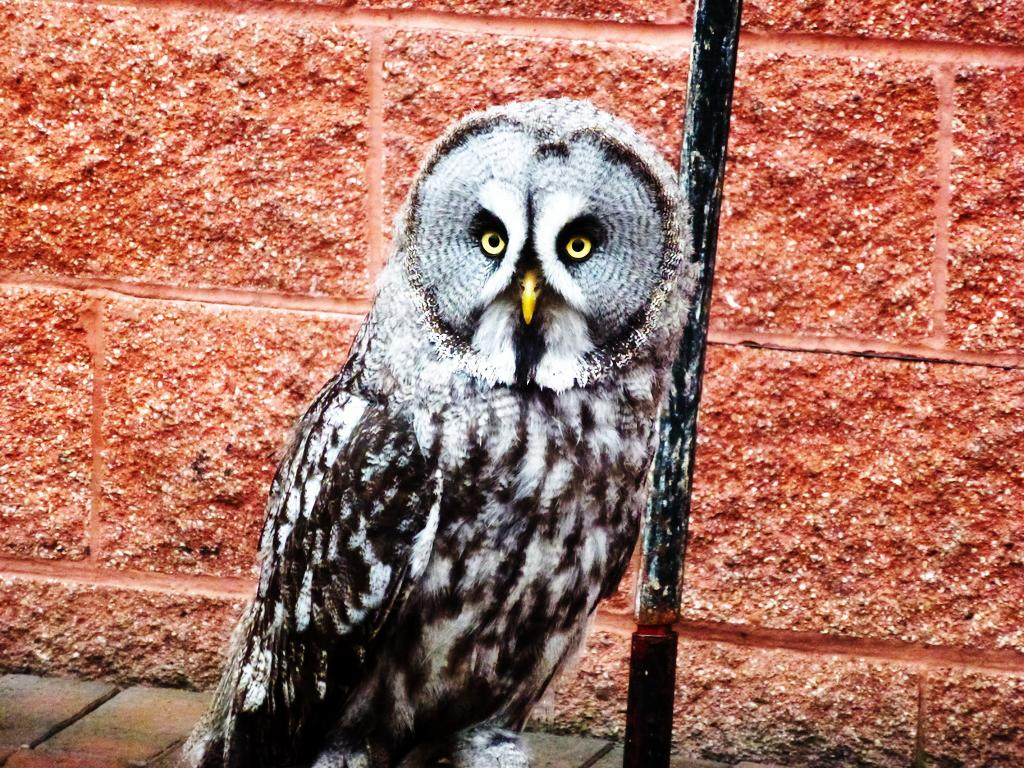Owl: (180, 96, 698, 768)
